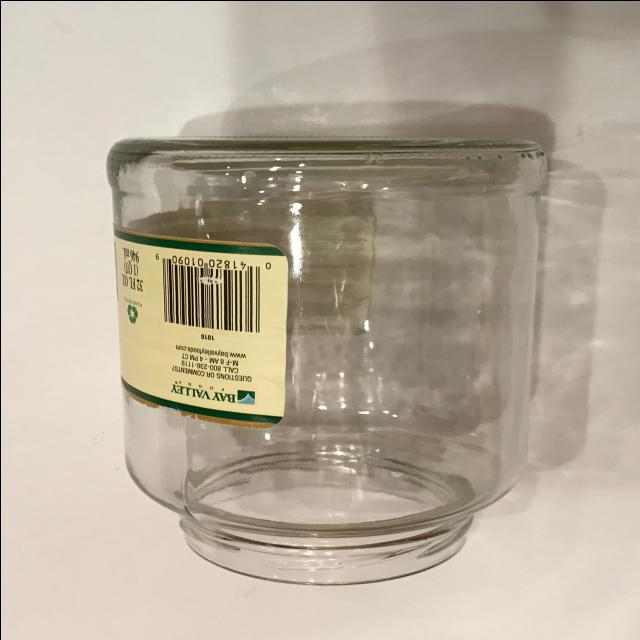glass: (103, 132, 546, 588)
